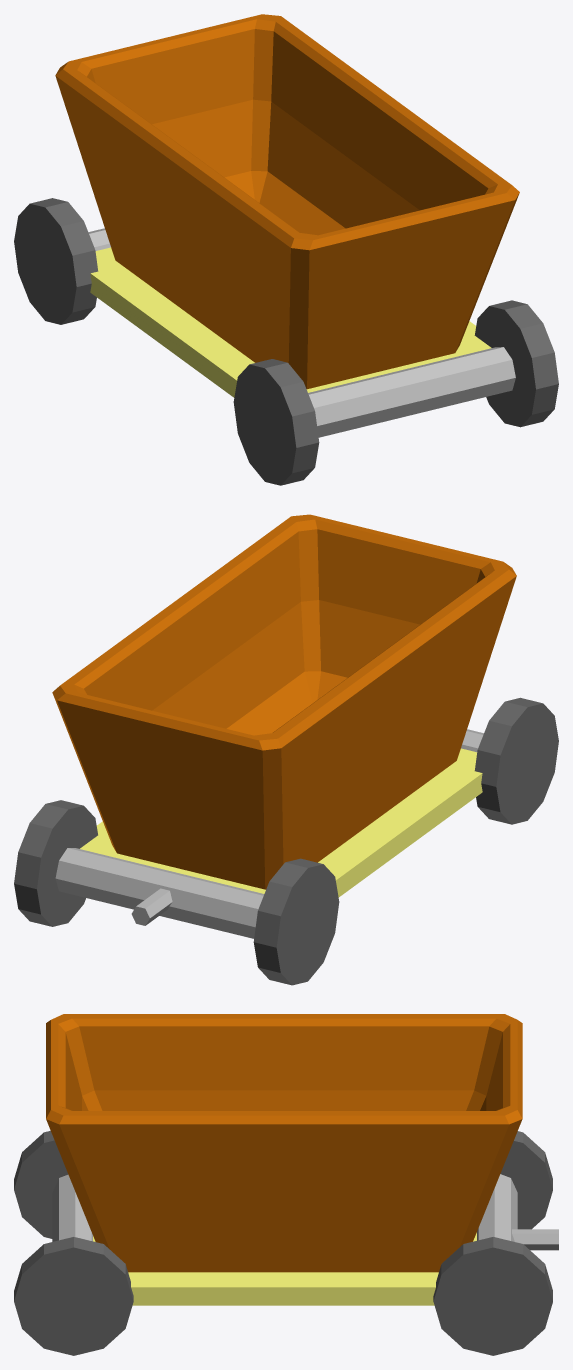
The model's file is train2.fbx.
The picture shows the model from 3 angles, top to bottom: view 1: azimuth 30°, elevation 25°; view 2: azimuth 150°, elevation 25°; view 3: azimuth 270°, elevation 25°; orthographic projection. The views are drawn at different scales.
Visible parts, largest first — view 1: train2; view 2: train2; view 3: train2.
Part boxes in pixels (x1,y1,x2,y2): train2: (14,14,558,485); train2: (14,514,558,985); train2: (14,1014,558,1355).
Bounding box in the file's own units: 163 × 144 × 307.
